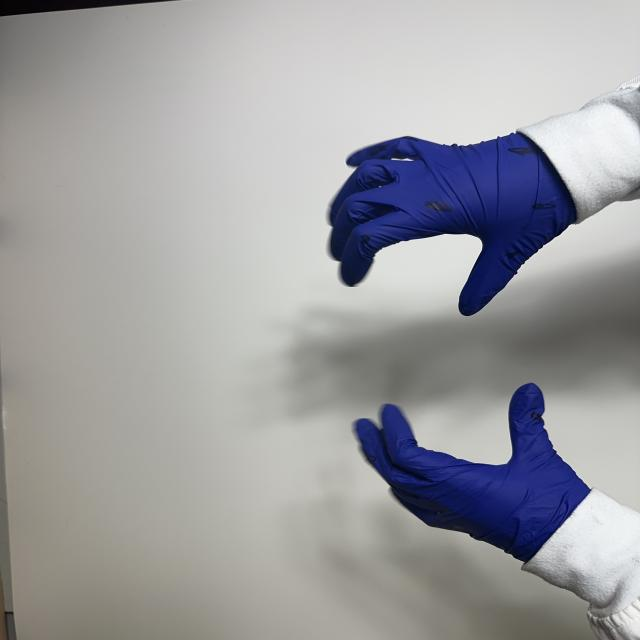gloves_contaminated: (330, 134, 576, 316), (356, 383, 588, 561)
